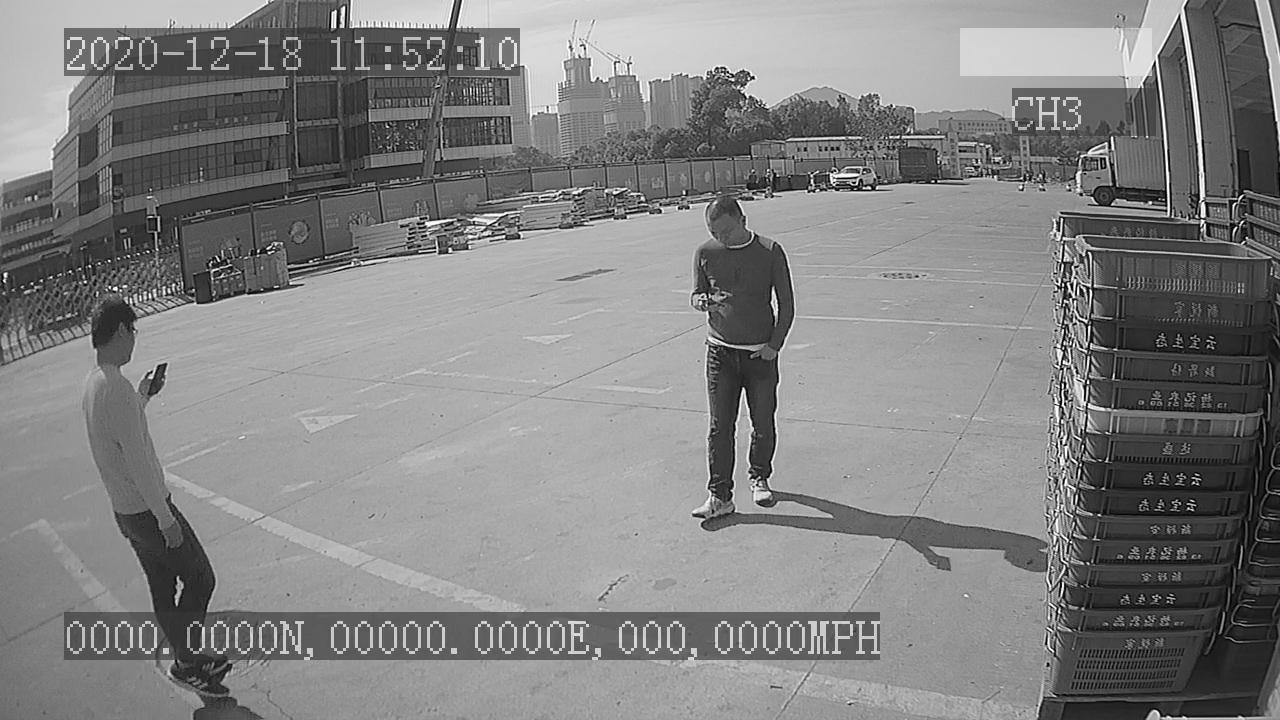person: (676, 192, 802, 527)
